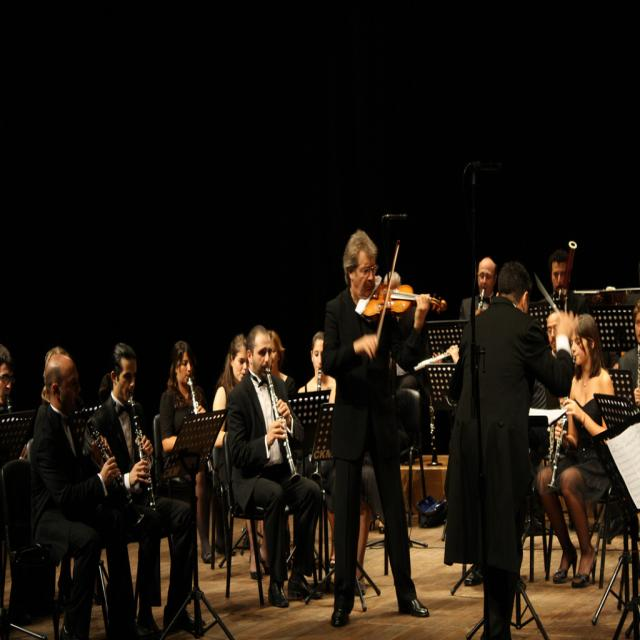clarinet: (72, 396, 146, 527), (545, 356, 582, 493), (262, 368, 303, 487), (126, 395, 161, 517), (185, 375, 218, 476), (427, 390, 443, 470), (5, 399, 25, 456), (316, 368, 324, 426), (472, 284, 485, 314), (636, 345, 640, 410)
violin: (349, 280, 448, 327)
